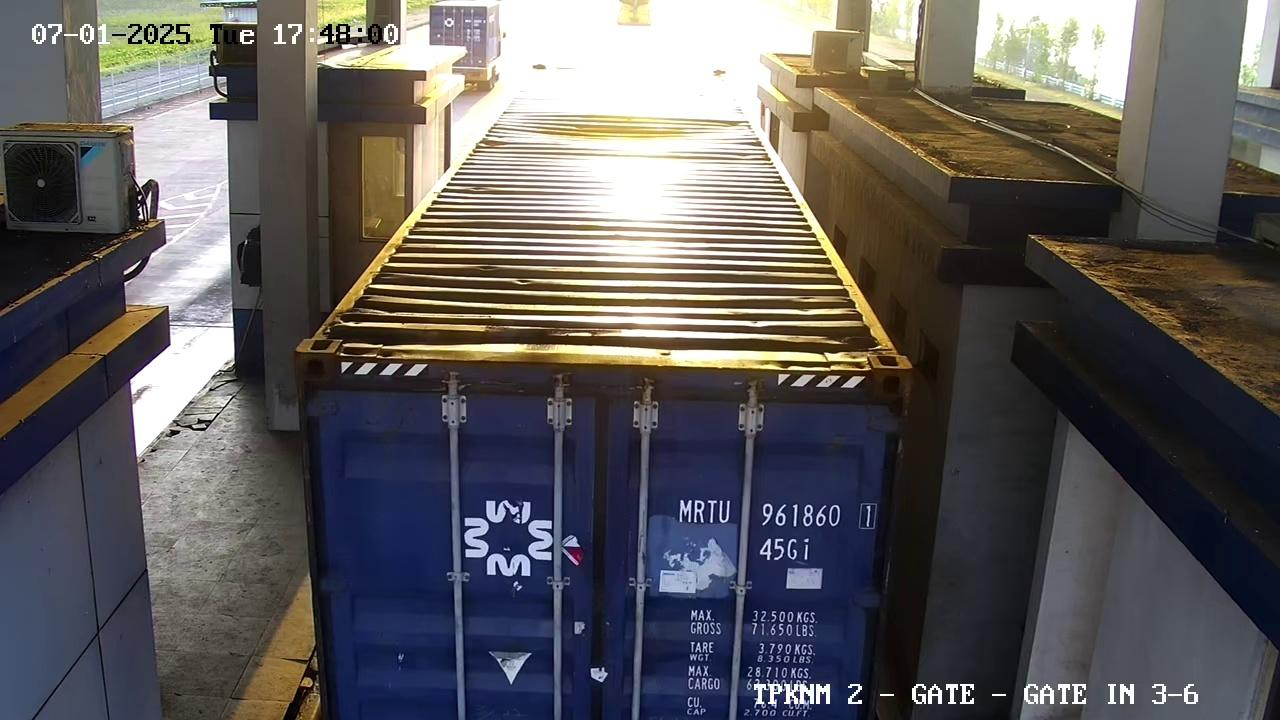Container_ID: (674, 489, 886, 535)
